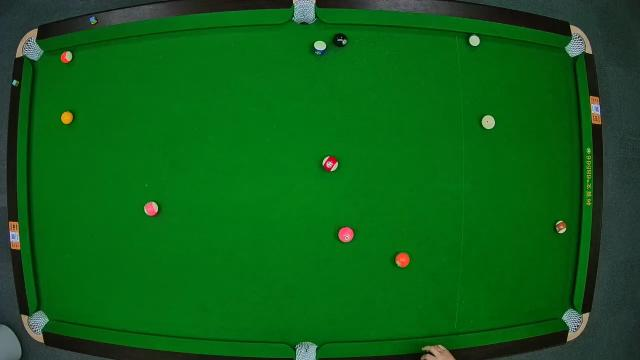bag1: (22, 38, 44, 62)
bag2: (293, 1, 315, 23)
bag3: (566, 34, 586, 57)
bag4: (29, 308, 49, 334)
bag5: (294, 342, 320, 360)
bag6: (562, 310, 582, 332)
ball0: (480, 114, 496, 131)
ball1: (60, 110, 76, 126)
ball10: (312, 41, 328, 57)
ball11: (320, 156, 338, 174)
ball12: (143, 202, 159, 219)
ball13: (60, 50, 74, 63)
ball14: (466, 33, 482, 49)
ball15: (556, 219, 568, 235)
ball4: (337, 225, 355, 243)
ball5: (394, 252, 412, 270)
ball8: (332, 31, 348, 48)
